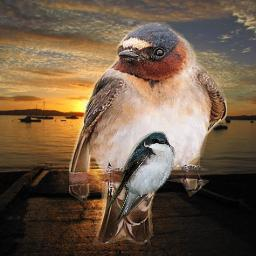Swallow: (69, 22, 227, 244), (106, 129, 176, 222)
